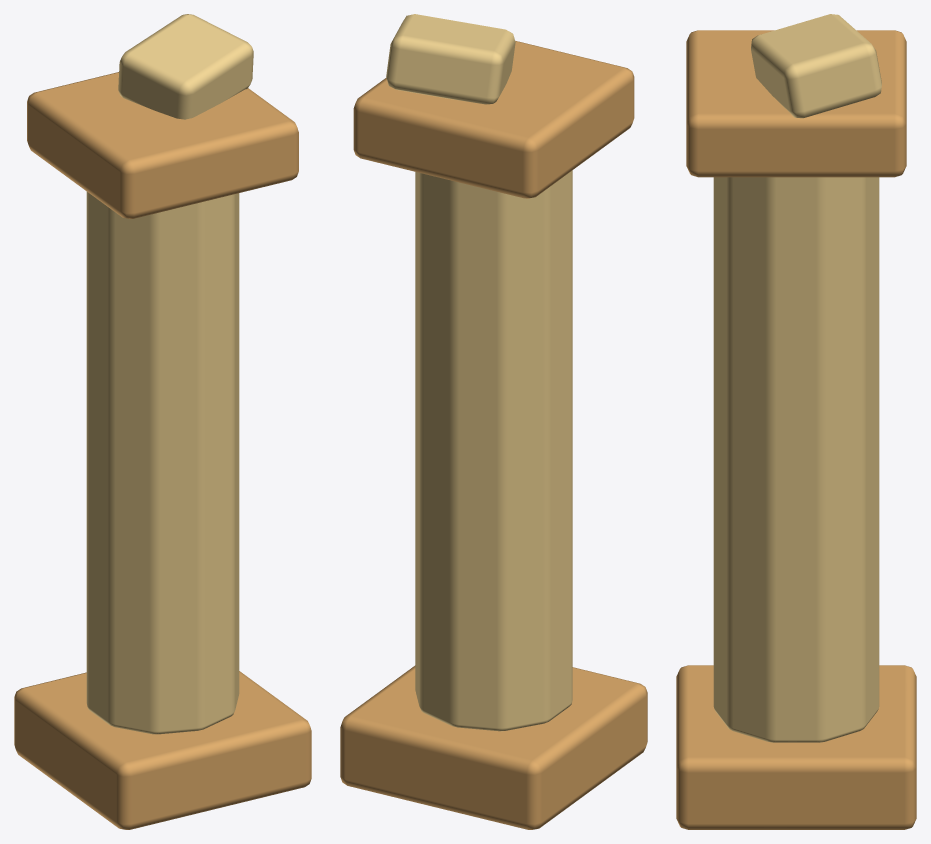
File: ENV_RuinPillar.glb
3 renders of one model, left to right at view 1: azimuth 30°, elevation 25°; view 2: azimuth 150°, elevation 25°; view 3: azimuth 270°, elevation 25°, orthographic. The views are drawn at different scales.
Parts seen in each view (by area): view 1: Shaft, Foot, Capital, Broken; view 2: Shaft, Foot, Capital, Broken; view 3: Shaft, Foot, Capital, Broken.
Part boxes in pixels (bbox=[...]): Shaft: bbox=[86, 191, 239, 734]; Foot: bbox=[14, 671, 311, 829]; Capital: bbox=[27, 72, 298, 218]; Broken: bbox=[118, 14, 253, 119]; Shaft: bbox=[415, 170, 572, 731]; Foot: bbox=[340, 665, 647, 829]; Capital: bbox=[353, 41, 634, 198]; Broken: bbox=[386, 14, 515, 104]; Shaft: bbox=[713, 177, 879, 742]; Foot: bbox=[676, 665, 916, 829]; Capital: bbox=[686, 30, 906, 177]; Broken: bbox=[751, 14, 881, 118].
Size of the model in its own units: 1.2 by 4.25 by 1.2.
